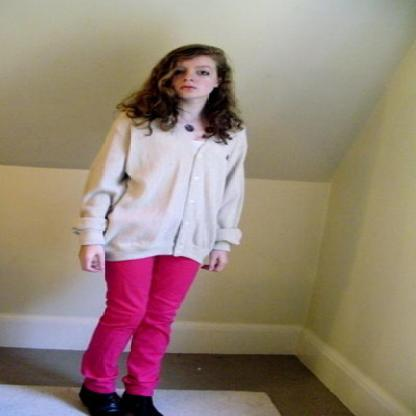jacket: (83, 117, 247, 274)
pants: (81, 254, 200, 396)
shoe: (105, 391, 136, 415)
